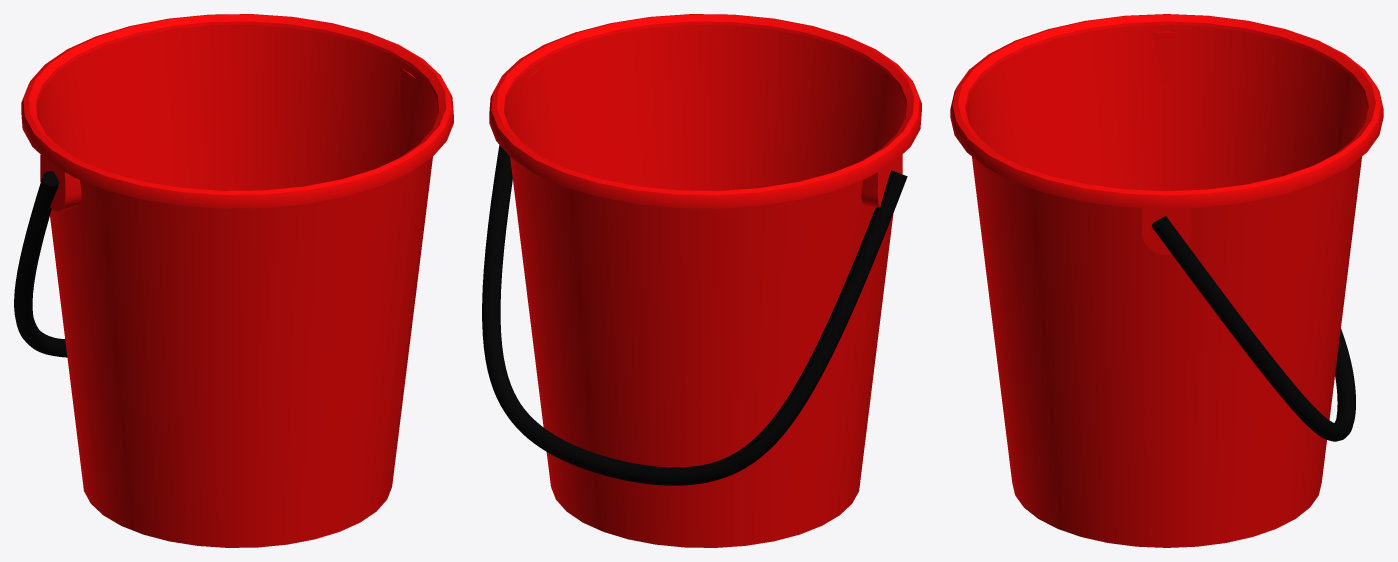
The model's file is ämpäri.fbx.
3 renders of one model, left to right at view 1: azimuth 30°, elevation 25°; view 2: azimuth 150°, elevation 25°; view 3: azimuth 270°, elevation 25°, orthographic.
Parts seen in each view (by area): view 1: ämpäri, NurbsPath; view 2: ämpäri, NurbsPath; view 3: ämpäri, NurbsPath.
Boxes of the visible parts, box(x1,y1,x2,y2) form: ämpäri: box(21, 14, 453, 547); NurbsPath: box(14, 171, 67, 357); ämpäri: box(489, 14, 921, 547); NurbsPath: box(482, 145, 907, 485); ämpäri: box(950, 14, 1383, 547); NurbsPath: box(1151, 216, 1355, 441).
Size of the model in its own units: 295 by 271 by 280.
